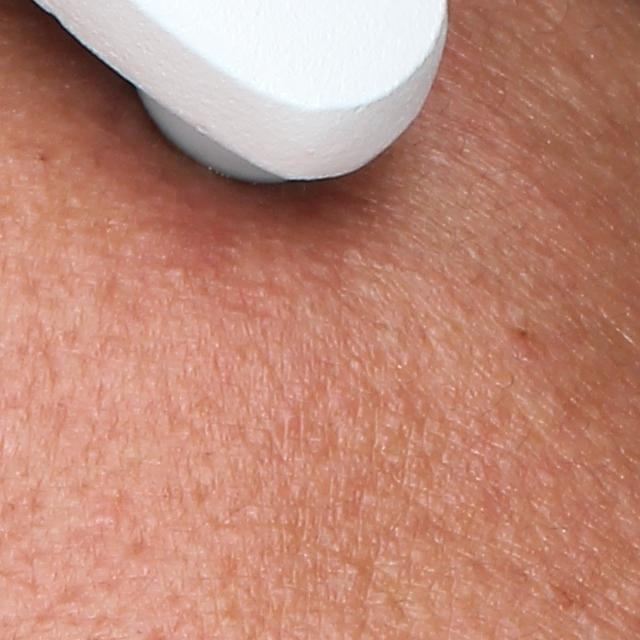comedo: (274, 406, 299, 429), (94, 509, 119, 527), (340, 561, 364, 578)
